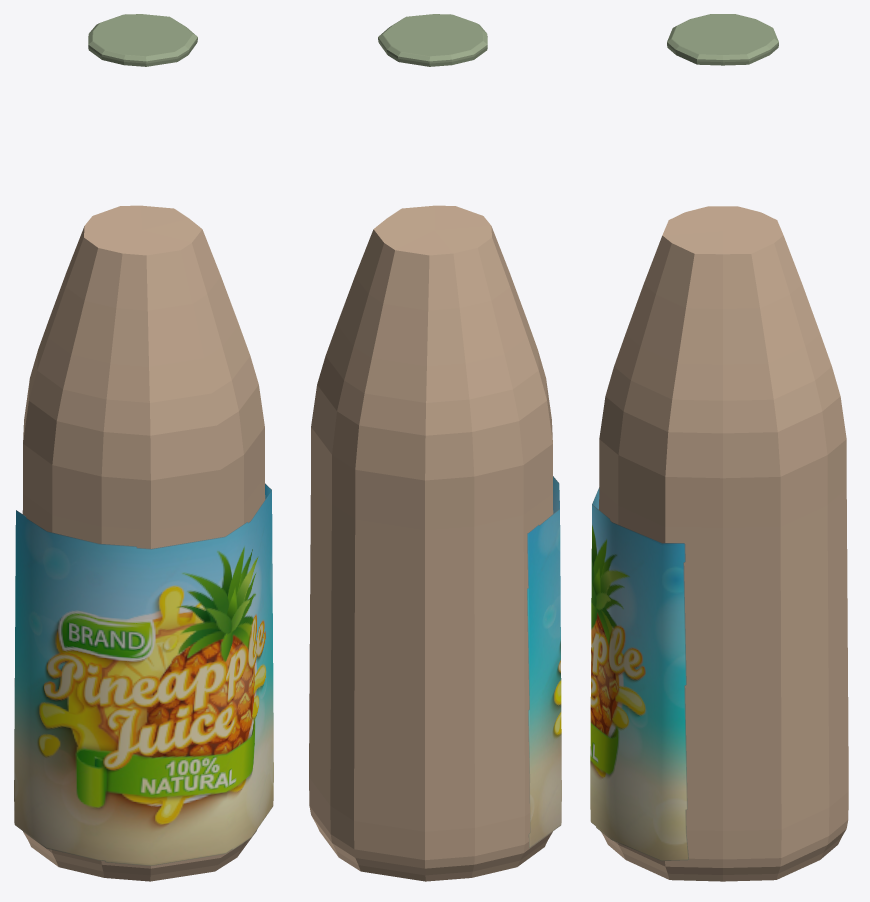
File: Pineaplejuice.fbx
The picture shows the model from 3 angles, left to right: view 1: azimuth 30°, elevation 25°; view 2: azimuth 150°, elevation 25°; view 3: azimuth 270°, elevation 25°; orthographic projection.
Parts seen in each view (by area): view 1: Lable, Liquid, Bottle_cap, Bottle_glass; view 2: Liquid, Lable, Bottle_cap, Bottle_glass; view 3: Liquid, Lable, Bottle_cap.
Boxes of the visible parts, x1,y1,x2,y2 form: Lable: [14, 486, 273, 863]; Liquid: [22, 205, 265, 881]; Bottle_cap: [88, 14, 197, 66]; Bottle_glass: [14, 483, 271, 865]; Liquid: [309, 205, 553, 881]; Lable: [528, 477, 561, 846]; Bottle_cap: [378, 14, 487, 66]; Bottle_glass: [527, 476, 561, 847]; Liquid: [599, 206, 848, 881]; Lable: [590, 488, 688, 861]; Bottle_cap: [667, 14, 778, 65].
Size of the model in its own units: 0.0505 by 0.1785 by 0.0532.
Materials: 2 (2 with a texture image).
